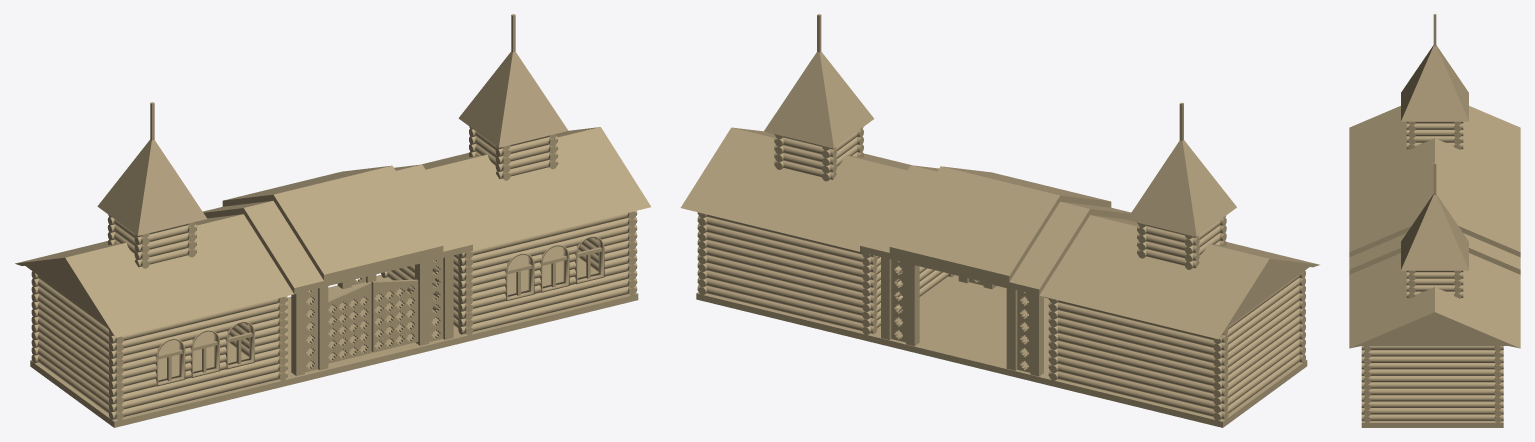
Rendered from car_grad_3_color.glb.
3 views of the same model, side by side, from view 1: azimuth 30°, elevation 25°; view 2: azimuth 150°, elevation 25°; view 3: azimuth 270°, elevation 25° (orthographic). The views are drawn at different scales.
Visible parts, largest first — view 1: Куб.011; view 2: Куб.011; view 3: Куб.011.
Part boxes in pixels (x1,y1,x2,y2): Куб.011: [15, 14, 650, 427]; Куб.011: [680, 14, 1319, 427]; Куб.011: [1349, 14, 1520, 427].
Bounding box in the file's own units: 18.4 × 8.97 × 6.03.
